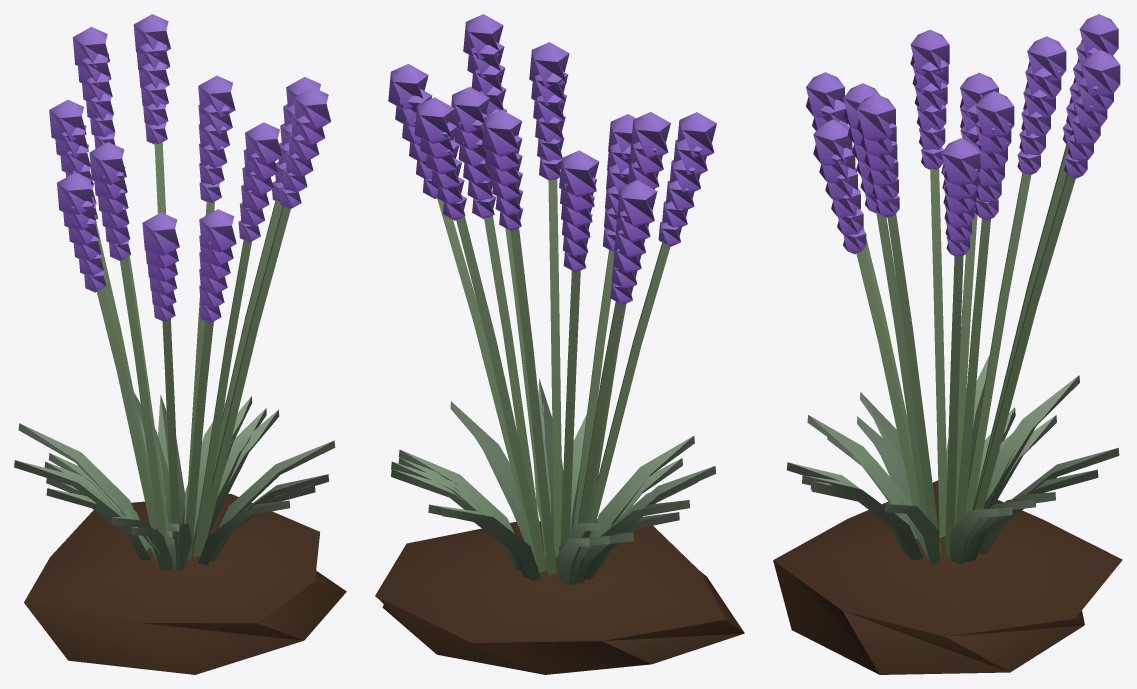
File: gd_lavender.glb
3 renders of one model, left to right at view 1: azimuth 30°, elevation 25°; view 2: azimuth 150°, elevation 25°; view 3: azimuth 270°, elevation 25°, orthographic. The views are drawn at different scales.
Visible parts, largest first — view 1: gd_lavender; view 2: gd_lavender; view 3: gd_lavender.
Part boxes in pixels (bbox=[...]): gd_lavender: bbox=[14, 14, 346, 674]; gd_lavender: bbox=[375, 14, 744, 674]; gd_lavender: bbox=[773, 14, 1122, 674].
Size of the model in its own units: 0.4522 by 0.7751 by 0.4122.
